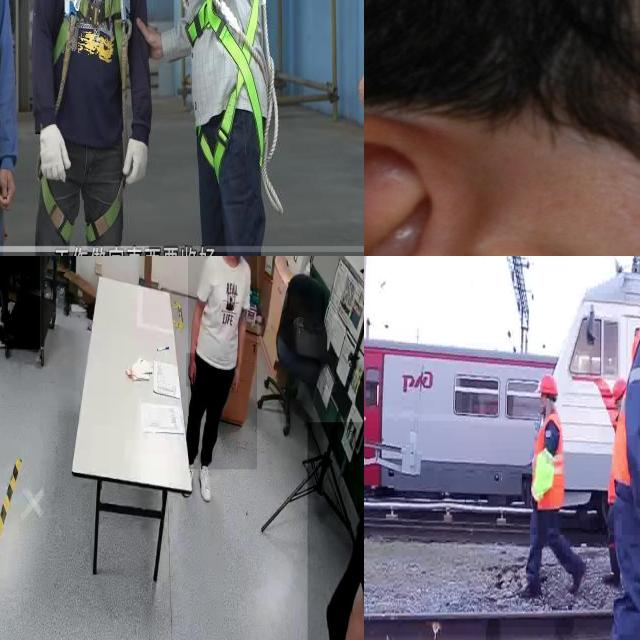Harness: (39, 0, 135, 237), (183, 0, 269, 186)
No_Ear-Protection: (364, 110, 619, 256)
boots: (574, 550, 585, 598)
hand_noglove: (186, 353, 196, 387), (231, 361, 239, 394)
head_helmet: (534, 375, 556, 397), (613, 378, 623, 402)
person: (586, 256, 640, 640), (188, 256, 257, 470), (508, 383, 574, 574), (307, 422, 364, 640), (0, 256, 40, 350)
shoes: (198, 462, 212, 504), (0, 316, 9, 349)
vest: (613, 308, 640, 496), (527, 416, 560, 520)
